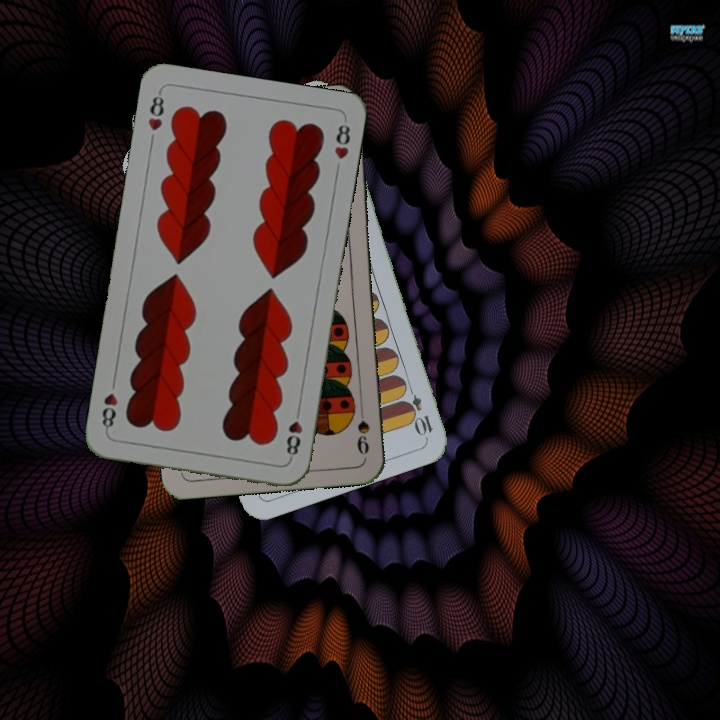E10: (402, 380, 436, 438)
H8: (282, 403, 305, 462), (144, 87, 167, 133)
S9: (353, 399, 372, 456)
